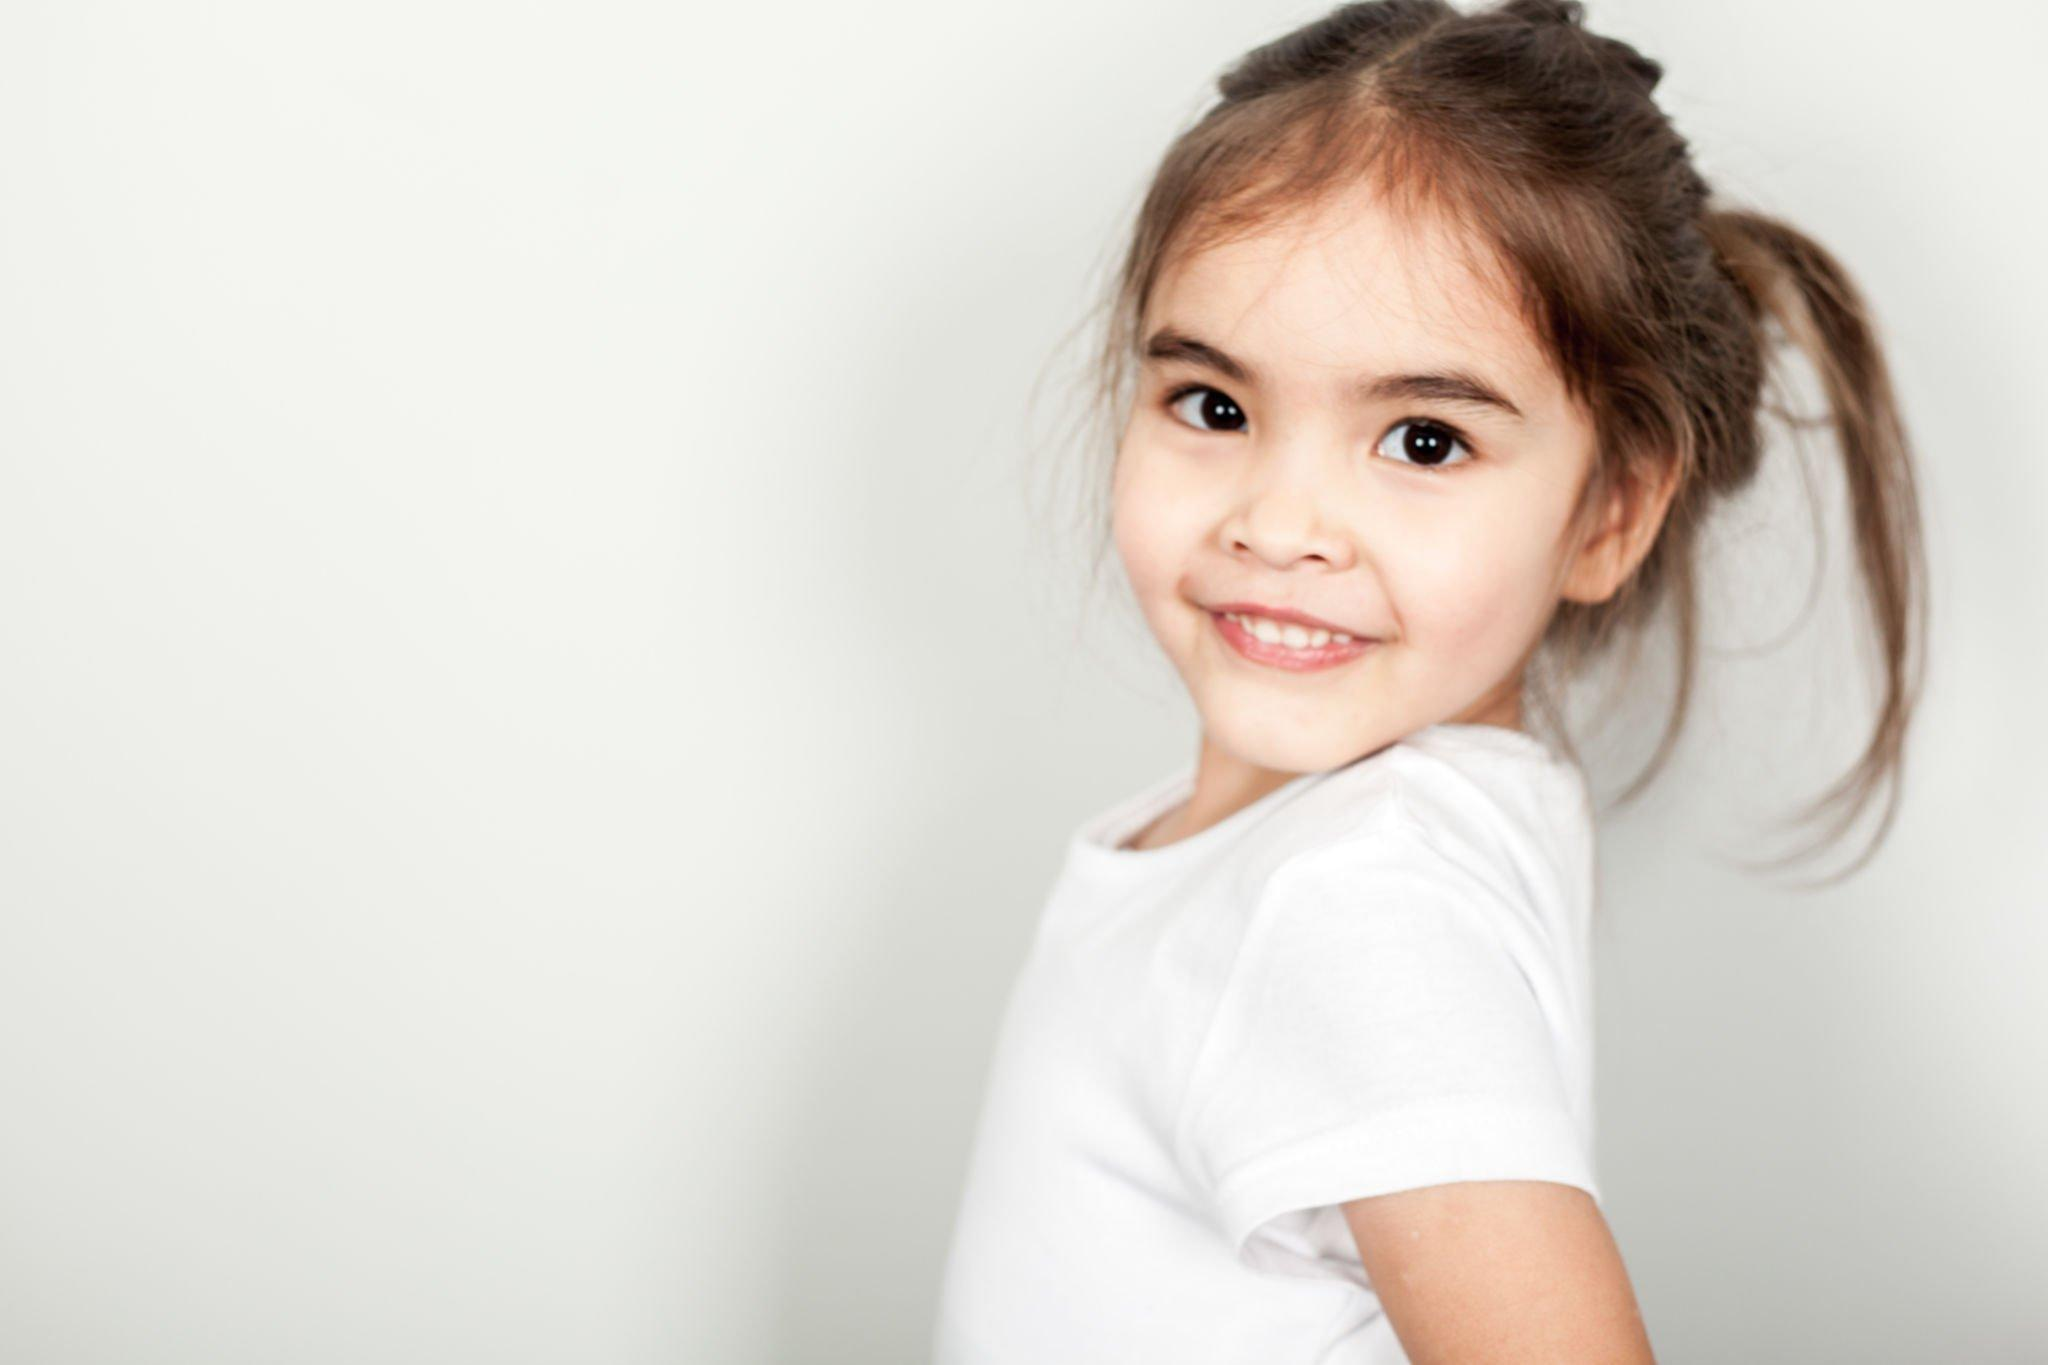Healthy: (1087, 125, 1602, 812)
